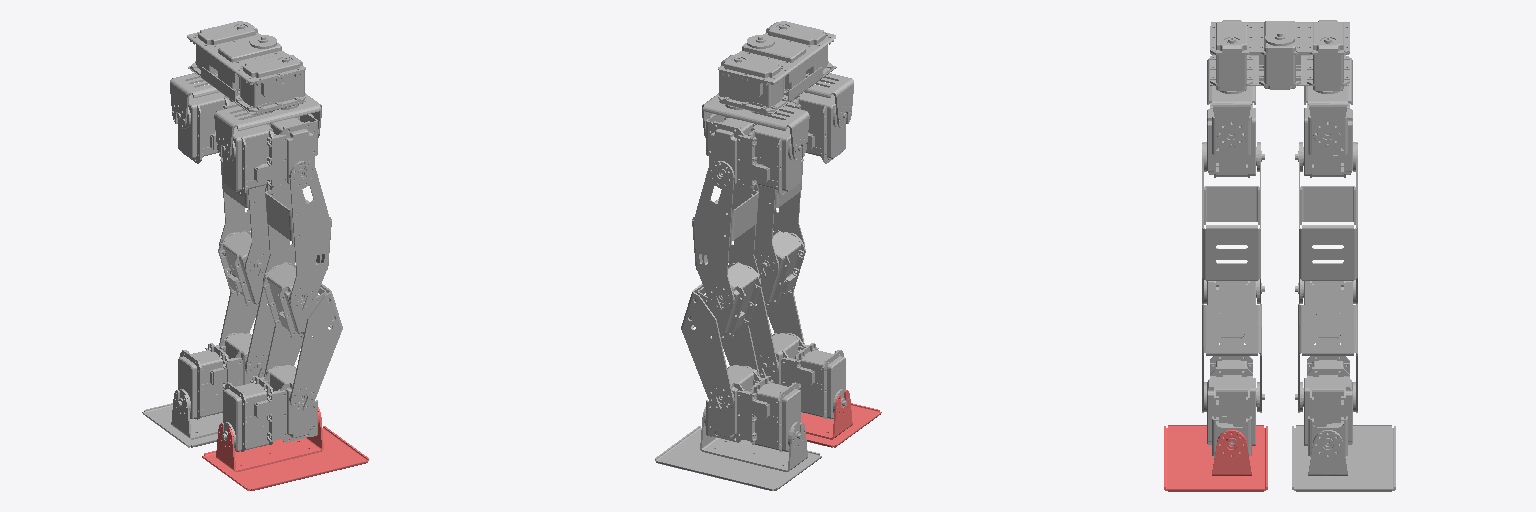
The robot description file, URDF, robot "testbot10":
<?xml version="1.0" encoding="utf-8"?>
<!-- This URDF was automatically created by SolidWorks to URDF Exporter! Originally created by [author] ([email redacted]) 
     Commit Version: 1.6.0-4-g7f85cfe  Build Version: 1.6.7995.38578
     For more information, please see http://wiki.ros.org/sw_urdf_exporter -->
<robot
  name="testbot10">
  <link
    name="base_link">
    <inertial>
      <origin
        xyz="-0.0168832826289113 1.11478384567931E-06 -0.0261416150645145"
        rpy="0 0 0" />
      <mass
        value="0.281603655205748" />
      <inertia
        ixx="9.51150075877957E-05"
        ixy="-1.64267680535308E-09"
        ixz="1.0622976689257E-06"
        iyy="0.000134448579197141"
        iyz="-8.02833303120214E-09"
        izz="0.000133906180321169" />
    </inertial>
    <visual>
      <origin
        xyz="0 0 0"
        rpy="0 0 0" />
      <geometry>
        <mesh
          filename="package://testbot10_description/meshes/base_link.STL" />
      </geometry>
      <material
        name="">
        <color
          rgba="0.752941176470588 0.752941176470588 0.752941176470588 1" />
      </material>
    </visual>
    <collision>
      <origin
        xyz="0 0 0"
        rpy="0 0 0" />
      <geometry>
        <mesh
          filename="package://testbot10_description/meshes/base_link.STL" />
      </geometry>
    </collision>
  </link>
<!-- <link name="world"/>
  <joint name="fixed" type="fixed">
  <origin xyz="0 0 1" rpy="0 0 0"/>
    <parent link="world"/>
    <child link="base_link"/>
  </joint> -->
  <link
    name="RL_link1">
    <inertial>
      <origin
        xyz="0.00677455665314142 -0.0171132386036875 -0.0056395200849706"
        rpy="0 0 0" />
      <mass
        value="0.036163238240597" />
      <inertia
        ixx="5.42465986079098E-05"
        ixy="-1.61368380737824E-11"
        ixz="2.39357304715321E-18"
        iyy="9.66378632488695E-06"
        iyz="-2.15975445072556E-07"
        izz="5.67806515256347E-05" />
    </inertial>
    <visual>
      <origin
        xyz="0 0 0"
        rpy="0 0 0" />
      <geometry>
        <mesh
          filename="package://testbot10_description/meshes/RL_link1.STL" />
      </geometry>
      <material
        name="">
        <color
          rgba="0.752941176470588 0.752941176470588 0.752941176470588 1" />
      </material>
    </visual>
    <collision>
      <origin
        xyz="0 0 0"
        rpy="0 0 0" />
      <geometry>
        <mesh
          filename="package://testbot10_description/meshes/RL_link1.STL" />
      </geometry>
    </collision>
  </link>
  <joint
    name="RL_j1"
    type="revolute">
    <origin
      xyz="0 0.051775 -0.054172"
      rpy="0 0 -1.5708" />
    <parent
      link="base_link" />
    <child
      link="RL_link1" />
    <axis
      xyz="0 0 1" />
    <limit
      lower="-3.13"
      upper="3.13"
      effort="0"
      velocity="0" />
    <dynamics
      friction="0" />
  </joint>
  <link
    name="RL_link2">
    <inertial>
      <origin
        xyz="0.000145288714112013 0.0175227430541512 0.0507591650070363"
        rpy="0 0 0" />
      <mass
        value="0.199136941521453" />
      <inertia
        ixx="7.9421953081219E-05"
        ixy="-1.06064116490362E-06"
        ixz="-4.62259007366841E-09"
        iyy="4.77173071542946E-05"
        iyz="-1.04163237345943E-06"
        izz="8.02433026576024E-05" />
    </inertial>
    <visual>
      <origin
        xyz="0 0 0"
        rpy="0 0 0" />
      <geometry>
        <mesh
          filename="package://testbot10_description/meshes/RL_link2.STL" />
      </geometry>
      <material
        name="">
        <color
          rgba="0.752941176470588 0.752941176470588 0.752941176470588 1" />
      </material>
    </visual>
    <collision>
      <origin
        xyz="0 0 0"
        rpy="0 0 0" />
      <geometry>
        <mesh
          filename="package://testbot10_description/meshes/RL_link2.STL" />
      </geometry>
    </collision>
  </link>
  <joint
    name="RL_j2"
    type="revolute">
    <origin
      xyz="0.0068746 -0.0682 -0.030468"
      rpy="-1.5708 0 0" />
    <parent
      link="RL_link1" />
    <child
      link="RL_link2" />
    <axis
      xyz="0 0 -1" />
    <limit
      lower="-3.13"
      upper="3.13"
      effort="0"
      velocity="0" />
    <dynamics
      friction="0" />
  </joint>
  <link
    name="RL_link3">
    <inertial>
      <origin
        xyz="0.0702582832318915 -0.00864650919675214 0.0235786082623353"
        rpy="0 0 0" />
      <mass
        value="0.0264467686387559" />
      <inertia
        ixx="1.76008022350531E-05"
        ixy="1.98588625172222E-06"
        ixz="9.44111245553121E-19"
        iyy="4.19724199033561E-05"
        iyz="2.03433491128841E-19"
        izz="3.31231401280413E-05" />
    </inertial>
    <visual>
      <origin
        xyz="0 0 0"
        rpy="0 0 0" />
      <geometry>
        <mesh
          filename="package://testbot10_description/meshes/RL_link3.STL" />
      </geometry>
      <material
        name="">
        <color
          rgba="0.752941176470588 0.752941176470588 0.752941176470588 1" />
      </material>
    </visual>
    <collision>
      <origin
        xyz="0 0 0"
        rpy="0 0 0" />
      <geometry>
        <mesh
          filename="package://testbot10_description/meshes/RL_link3.STL" />
      </geometry>
    </collision>
  </link>
  <joint
    name="RL_j3"
    type="revolute">
    <origin
      xyz="0.020925 0.036241 0.07293"
      rpy="-1.5708 0 1.5708" />
    <parent
      link="RL_link2" />
    <child
      link="RL_link3" />
    <axis
      xyz="0 0 1" />
    <limit
      lower="-3.13"
      upper="3.13"
      effort="0"
      velocity="0" />
    <dynamics
      friction="0" />
  </joint>
  <link
    name="RL_link4">
    <inertial>
      <origin
        xyz="-0.0304249664645235 0.0121642606893708 0.0209170204137781"
        rpy="0 0 0" />
      <mass
        value="0.148800494600385" />
      <inertia
        ixx="7.26973251374853E-05"
        ixy="-1.14266049925035E-05"
        ixz="1.08105188921988E-06"
        iyy="0.000125674560771786"
        iyz="-4.62876984564198E-07"
        izz="9.73289824699956E-05" />
    </inertial>
    <visual>
      <origin
        xyz="0 0 0"
        rpy="0 0 0" />
      <geometry>
        <mesh
          filename="package://testbot10_description/meshes/RL_link4.STL" />
      </geometry>
      <material
        name="">
        <color
          rgba="0.752941176470588 0.752941176470588 0.752941176470588 1" />
      </material>
    </visual>
    <collision>
      <origin
        xyz="0 0 0"
        rpy="0 0 0" />
      <geometry>
        <mesh
          filename="package://testbot10_description/meshes/RL_link4.STL" />
      </geometry>
    </collision>
  </link>
  <joint
    name="RL_j4"
    type="revolute">
    <origin
      xyz="0.136292817220622 0 0"
      rpy="0.00555939283246736 0 3.14159265358979" />
    <parent
      link="RL_link3" />
    <child
      link="RL_link4" />
    <axis
      xyz="0 0.00555936419529654 0.999984546615469" />
    <limit
      lower="-3.13"
      upper="3.13"
      effort="0"
      velocity="0" />
    <dynamics
      friction="0" />
  </joint>
  <link
    name="RL_link5">
    <inertial>
      <origin
        xyz="0.018486364793432 0.0220241422062936 0.0258807043313478"
        rpy="0 0 0" />
      <mass
        value="0.199136941521453" />
      <inertia
        ixx="4.77173071542947E-05"
        ixy="-1.0389866930085E-06"
        ixz="-1.0697468440587E-06"
        iyy="8.02432258745892E-05"
        iyz="9.18841518505544E-09"
        izz="7.9422029864232E-05" />
    </inertial>
    <visual>
      <origin
        xyz="0 0 0"
        rpy="0 0 0" />
      <geometry>
        <mesh
          filename="package://testbot10_description/meshes/RL_link5.STL" />
      </geometry>
      <material
        name="">
        <color
          rgba="0.752941176470588 0.752941176470588 0.752941176470588 1" />
      </material>
    </visual>
    <collision>
      <origin
        xyz="0 0 0"
        rpy="0 0 0" />
      <geometry>
        <mesh
          filename="package://testbot10_description/meshes/RL_link5.STL" />
      </geometry>
    </collision>
  </link>
  <joint
    name="RL_j5"
    type="revolute">
    <origin
      xyz="-0.11159 -2.7656E-05 -0.0049745"
      rpy="0 0 3.1416" />
    <parent
      link="RL_link4" />
    <child
      link="RL_link5" />
    <axis
      xyz="0 -0.0055594 0.99998" />
    <limit
      lower="-3.13"
      upper="3.13"
      effort="0"
      velocity="0" />
    <dynamics
      friction="0" />
  </joint>
  <link
    name="RL_link6">
    <inertial>
      <origin
        xyz="0.0313843745102667 0.0101684393649126 0.0574146730755681"
        rpy="0 0 0" />
      <mass
        value="0.110140418970304" />
      <inertia
        ixx="0.000244915284087814"
        ixy="-2.38271965882484E-10"
        ixz="-1.56767941324337E-10"
        iyy="0.000183605675690306"
        iyz="6.5689199975025E-07"
        izz="6.94959211072831E-05" />
    </inertial>
    <visual>
      <origin
        xyz="0 0 0"
        rpy="0 0 0" />
      <geometry>
        <mesh
          filename="package://testbot10_description/meshes/RL_link6.STL" />
      </geometry>
      <material
        name="">
        <color
          rgba="0.752941176470588 0.752941176470588 0.752941176470588 1" />
      </material>
    </visual>
    <collision>
      <origin
        xyz="0 0 0"
        rpy="0 0 0" />
      <geometry>
        <mesh
          filename="package://testbot10_description/meshes/RL_link6.STL" />
      </geometry>
    </collision>
  </link>
  <joint
    name="RL_j6"
    type="revolute">
    <origin
      xyz="0.03593 0.072785 0.026305"
      rpy="1.5708 0 0" />
    <parent
      link="RL_link5" />
    <child
      link="RL_link6" />
    <axis
      xyz="0 0.0055594 -0.99998" />
    <limit
      lower="-3.13"
      upper="3.13"
      effort="0"
      velocity="0" />
    <dynamics
      friction="0" />
  </joint>
  <link
    name="LL_link1">
    <inertial>
      <origin
        xyz="1.66977542903624E-13 -0.0171134562696078 -0.0078112966258107"
        rpy="0 0 0" />
      <mass
        value="0.0361632382405999" />
      <inertia
        ixx="5.42465986079154E-05"
        ixy="-1.61368372102257E-11"
        ixz="2.26866815427224E-18"
        iyy="9.66378632488791E-06"
        iyz="-2.15975445070927E-07"
        izz="5.67806515256394E-05" />
    </inertial>
    <visual>
      <origin
        xyz="0 0 0"
        rpy="0 0 0" />
      <geometry>
        <mesh
          filename="package://testbot10_description/meshes/LL_link1.STL" />
      </geometry>
      <material
        name="">
        <color
          rgba="0.752941176470588 0.752941176470588 0.752941176470588 1" />
      </material>
    </visual>
    <collision>
      <origin
        xyz="0 0 0"
        rpy="0 0 0" />
      <geometry>
        <mesh
          filename="package://testbot10_description/meshes/LL_link1.STL" />
      </geometry>
    </collision>
  </link>
  <joint
    name="LL_j1"
    type="revolute">
    <origin
      xyz="0 -0.045 -0.052"
      rpy="0 0 -1.5708" />
    <parent
      link="base_link" />
    <child
      link="LL_link1" />
    <axis
      xyz="0 0 1" />
    <limit
      lower="-3.13"
      upper="3.13"
      effort="0"
      velocity="0" />
    <dynamics
      friction="0" />
  </joint>
  <link
    name="LL_link2">
    <inertial>
      <origin
        xyz="-0.000255232783638704 0.0175227430541507 0.0507623178829572"
        rpy="0 0 0" />
      <mass
        value="0.199136941521453" />
      <inertia
        ixx="7.94219530812189E-05"
        ixy="1.06395420931126E-06"
        ixz="-4.62259007354437E-09"
        iyy="4.77173071542947E-05"
        iyz="-1.04491774756739E-06"
        izz="8.02433026576024E-05" />
    </inertial>
    <visual>
      <origin
        xyz="0 0 0"
        rpy="0 0 0" />
      <geometry>
        <mesh
          filename="package://testbot10_description/meshes/LL_link2.STL" />
      </geometry>
      <material
        name="">
        <color
          rgba="0.752941176470588 0.752941176470588 0.752941176470588 1" />
      </material>
    </visual>
    <collision>
      <origin
        xyz="0 0 0"
        rpy="0 0 0" />
      <geometry>
        <mesh
          filename="package://testbot10_description/meshes/LL_link2.STL" />
      </geometry>
    </collision>
  </link>
  <joint
    name="LL_j2"
    type="revolute">
    <origin
      xyz="0.0001 -0.0682 -0.03264"
      rpy="-1.5708 0 0" />
    <parent
      link="LL_link1" />
    <child
      link="LL_link2" />
    <axis
      xyz="0 0 1" />
    <limit
      lower="-3.13"
      upper="3.13"
      effort="0"
      velocity="0" />
    <dynamics
      friction="0" />
  </joint>
  <link
    name="LL_link3">
    <inertial>
      <origin
        xyz="0.0704311049281126 -0.00863777375409747 -0.0285531649153121"
        rpy="0 0 0" />
      <mass
        value="0.0264467686387567" />
      <inertia
        ixx="1.76003222508723E-05"
        ixy="1.98293872407723E-06"
        ixz="-1.07814244683159E-18"
        iyy="4.19728998875406E-05"
        iyz="3.18616737065625E-19"
        izz="3.31231401280443E-05" />
    </inertial>
    <visual>
      <origin
        xyz="0 0 0"
        rpy="0 0 0" />
      <geometry>
        <mesh
          filename="package://testbot10_description/meshes/LL_link3.STL" />
      </geometry>
      <material
        name="">
        <color
          rgba="0.752941176470588 0.752941176470588 0.752941176470588 1" />
      </material>
    </visual>
    <collision>
      <origin
        xyz="0 0 0"
        rpy="0 0 0" />
      <geometry>
        <mesh
          filename="package://testbot10_description/meshes/LL_link3.STL" />
      </geometry>
    </collision>
  </link>
  <joint
    name="LL_j3"
    type="revolute">
    <origin
      xyz="-0.0261 0.03607 0.07293"
      rpy="-1.5708 0 1.5708" />
    <parent
      link="LL_link2" />
    <child
      link="LL_link3" />
    <axis
      xyz="0 0 -1" />
    <limit
      lower="-3.13"
      upper="3.13"
      effort="0"
      velocity="0" />
    <dynamics
      friction="0" />
  </joint>
  <link
    name="LL_link4">
    <inertial>
      <origin
        xyz="0.030599403100887 -0.0118955420385439 -0.0260254257771546"
        rpy="0 0 0" />
      <mass
        value="0.148800494499737" />
      <inertia
        ixx="7.27018871409381E-05"
        ixy="-1.14415818229065E-05"
        ixz="9.55231251879924E-07"
        iyy="0.000125676736750434"
        iyz="-1.4311744773575E-07"
        izz="9.73222443651326E-05" />
    </inertial>
    <visual>
      <origin
        xyz="0 0 0"
        rpy="0 0 0" />
      <geometry>
        <mesh
          filename="package://testbot10_description/meshes/LL_link4.STL" />
      </geometry>
      <material
        name="">
        <color
          rgba="0.752941176470588 0.752941176470588 0.752941176470588 1" />
      </material>
    </visual>
    <collision>
      <origin
        xyz="0 0 0"
        rpy="0 0 0" />
      <geometry>
        <mesh
          filename="package://testbot10_description/meshes/LL_link4.STL" />
      </geometry>
    </collision>
  </link>
  <joint
    name="LL_j4"
    type="revolute">
    <origin
      xyz="0.13629 1.6483E-05 0"
      rpy="-0.0055594 0 0" />
    <parent
      link="LL_link3" />
    <child
      link="LL_link4" />
    <axis
      xyz="0 0.0055594 -0.99998" />
    <limit
      lower="-3.13"
      upper="3.13"
      effort="0"
      velocity="0" />
    <dynamics
      friction="0" />
  </joint>
  <link
    name="LL_link5">
    <inertial>
      <origin
        xyz="0.0184053379148842 0.0222981753233199 -0.025718048095948"
        rpy="0 0 0" />
      <mass
        value="0.199136941521452" />
      <inertia
        ixx="4.77173071542945E-05"
        ixy="-1.04751276171685E-06"
        ixz="1.054833966262E-06"
        iyy="8.02432258745888E-05"
        iyz="9.18841518502454E-09"
        izz="7.94220298642311E-05" />
    </inertial>
    <visual>
      <origin
        xyz="0 0 0"
        rpy="0 0 0" />
      <geometry>
        <mesh
          filename="package://testbot10_description/meshes/LL_link5.STL" />
      </geometry>
      <material
        name="">
        <color
          rgba="0.752941176470588 0.752941176470588 0.752941176470588 1" />
      </material>
    </visual>
    <collision>
      <origin
        xyz="0 0 0"
        rpy="0 0 0" />
      <geometry>
        <mesh
          filename="package://testbot10_description/meshes/LL_link5.STL" />
      </geometry>
    </collision>
  </link>
  <joint
    name="LL_j5"
    type="revolute">
    <origin
      xyz="0.11176 1.3517E-05 0"
      rpy="0 0 0" />
    <parent
      link="LL_link4" />
    <child
      link="LL_link5" />
    <axis
      xyz="0 0.0055594 -0.99998" />
    <limit
      lower="-3.13"
      upper="3.13"
      effort="0"
      velocity="0" />
    <dynamics
      friction="0" />
  </joint>
  <link
    name="LL_link6">
    <inertial>
      <origin
        xyz="0.0315143745098138 -0.0572991776034554 -0.0106061822036878"
        rpy="0 0 0" />
      <mass
        value="0.110140418970306" />
      <inertia
        ixx="0.000244915284087816"
        ixy="1.54109010866323E-10"
        ixz="2.40000271001321E-10"
        iyy="6.94954210715023E-05"
        iyz="-6.11921695467504E-07"
        izz="0.000183606175726089" />
    </inertial>
    <visual>
      <origin
        xyz="0 0 0"
        rpy="0 0 0" />
      <geometry>
        <mesh
          filename="package://testbot10_description/meshes/LL_link6.STL" />
      </geometry>
      <material
        name="">
        <color
          rgba="1 0.501960784313725 0.501960784313725 1" />
      </material>
    </visual>
    <collision>
      <origin
        xyz="0 0 0"
        rpy="0 0 0" />
      <geometry>
        <mesh
          filename="package://testbot10_description/meshes/LL_link6.STL" />
      </geometry>
    </collision>
  </link>
  <joint
    name="LL_j6"
    type="revolute">
    <origin
      xyz="0.0358 0.073044 -0.025694"
      rpy="0 0 0" />
    <parent
      link="LL_link5" />
    <child
      link="LL_link6" />
    <axis
      xyz="0 -0.99998 -0.0055594" />
    <limit
      lower="-3.13"
      upper="3.13"
      effort="0"
      velocity="0" />
    <dynamics
      friction="0" />
  </joint>

</robot>

--- What the picture shows (computed from the rendered views, not written in the file) ---
The picture shows the robot from 3 angles, left to right: view 1: azimuth 30°, elevation 25°; view 2: azimuth 150°, elevation 25°; view 3: azimuth 270°, elevation 25°; orthographic projection.
Robot: testbot10 — 13 links, 12 joints (12 revolute); root link base_link; default pose: all joints at 0.
Visible links, largest first — view 1: base_link, LL_link4, LL_link3, LL_link6, LL_link5, LL_link2, RL_link4, RL_link5, RL_link3, RL_link2, RL_link6, LL_link1 (+1 smaller); view 2: base_link, RL_link4, RL_link3, RL_link6, RL_link5, RL_link2, LL_link4, LL_link5, LL_link3, LL_link2, LL_link6, RL_link1 (+1 smaller); view 3: base_link, RL_link6, LL_link6, RL_link3, LL_link3, RL_link4, LL_link4, LL_link5, RL_link5, RL_link2, LL_link2, RL_link1 (+1 smaller).
Link boxes in pixels (x1=…): base_link: x1=187, y1=21, x2=305, y2=114; LL_link4: x1=263, y1=262, x2=342, y2=410; LL_link3: x1=263, y1=161, x2=331, y2=310; LL_link6: x1=202, y1=407, x2=368, y2=490; LL_link5: x1=222, y1=365, x2=317, y2=451; LL_link2: x1=222, y1=114, x2=317, y2=196; RL_link4: x1=218, y1=230, x2=274, y2=377; RL_link5: x1=177, y1=333, x2=267, y2=419; RL_link3: x1=219, y1=157, x2=270, y2=277; RL_link2: x1=177, y1=92, x2=268, y2=163; RL_link6: x1=142, y1=390, x2=222, y2=447; LL_link1: x1=214, y1=93, x2=321, y2=160; base_link: x1=718, y1=21, x2=836, y2=114; RL_link4: x1=681, y1=262, x2=760, y2=410; RL_link3: x1=692, y1=161, x2=760, y2=310; RL_link6: x1=655, y1=407, x2=821, y2=490; RL_link5: x1=706, y1=365, x2=802, y2=451; RL_link2: x1=706, y1=114, x2=802, y2=196; LL_link4: x1=749, y1=230, x2=805, y2=377; LL_link5: x1=756, y1=333, x2=846, y2=418; LL_link3: x1=753, y1=157, x2=804, y2=277; LL_link2: x1=755, y1=92, x2=846, y2=163; LL_link6: x1=801, y1=390, x2=881, y2=447; RL_link1: x1=702, y1=93, x2=809, y2=160; base_link: x1=1210, y1=20, x2=1349, y2=93; RL_link6: x1=1292, y1=425, x2=1395, y2=491; LL_link6: x1=1164, y1=425, x2=1267, y2=491; RL_link3: x1=1299, y1=142, x2=1357, y2=303; LL_link3: x1=1202, y1=142, x2=1260, y2=303; RL_link4: x1=1295, y1=279, x2=1357, y2=412; LL_link4: x1=1202, y1=279, x2=1264, y2=412; LL_link5: x1=1207, y1=356, x2=1264, y2=456; RL_link5: x1=1295, y1=356, x2=1352, y2=456; RL_link2: x1=1295, y1=103, x2=1352, y2=177; LL_link2: x1=1207, y1=103, x2=1264, y2=177; RL_link1: x1=1304, y1=58, x2=1352, y2=146.
Size in the robot's own frame: 0.1428 by 0.2178 by 0.445 metres.
Meshes: 13 distinct files referenced, 13 mesh visuals loaded (13 binary STL).
